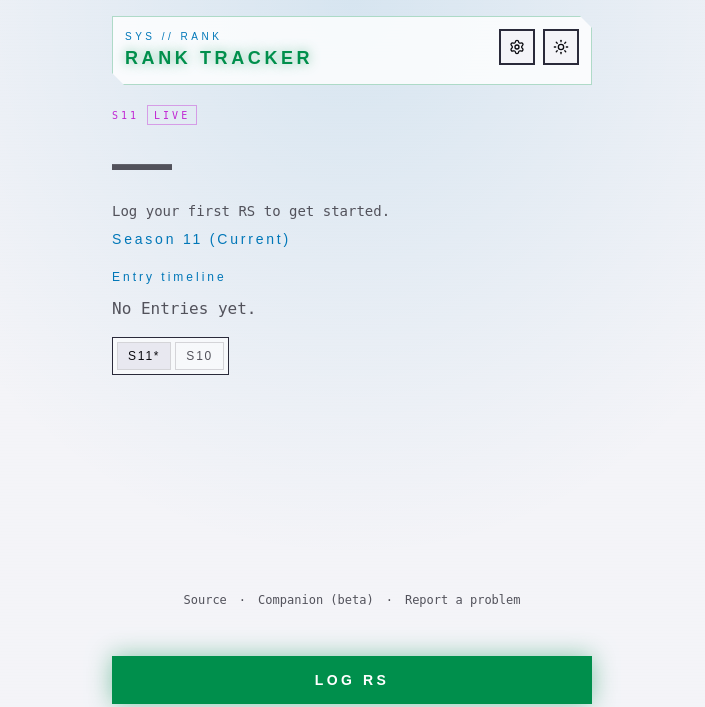
Scenario: past Season view omits Δ last 12 hours
The image size is (705, 707).
Click the radio button labelled "S10".
click(200, 356)  # box [175, 342, 224, 370]
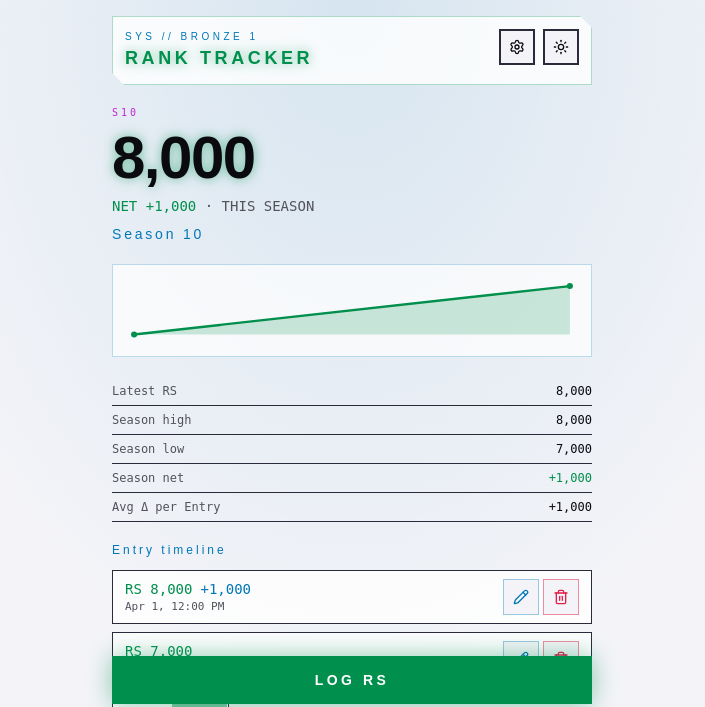
Expected: the element named "Season hero" does not show "/ 12H", [112, 107, 314, 242]
Now the heading "Season 10" is shown, box [112, 226, 204, 242]
